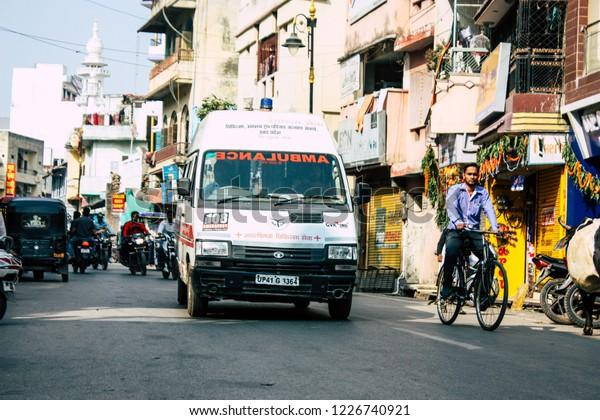ER: (174, 95, 355, 321)
